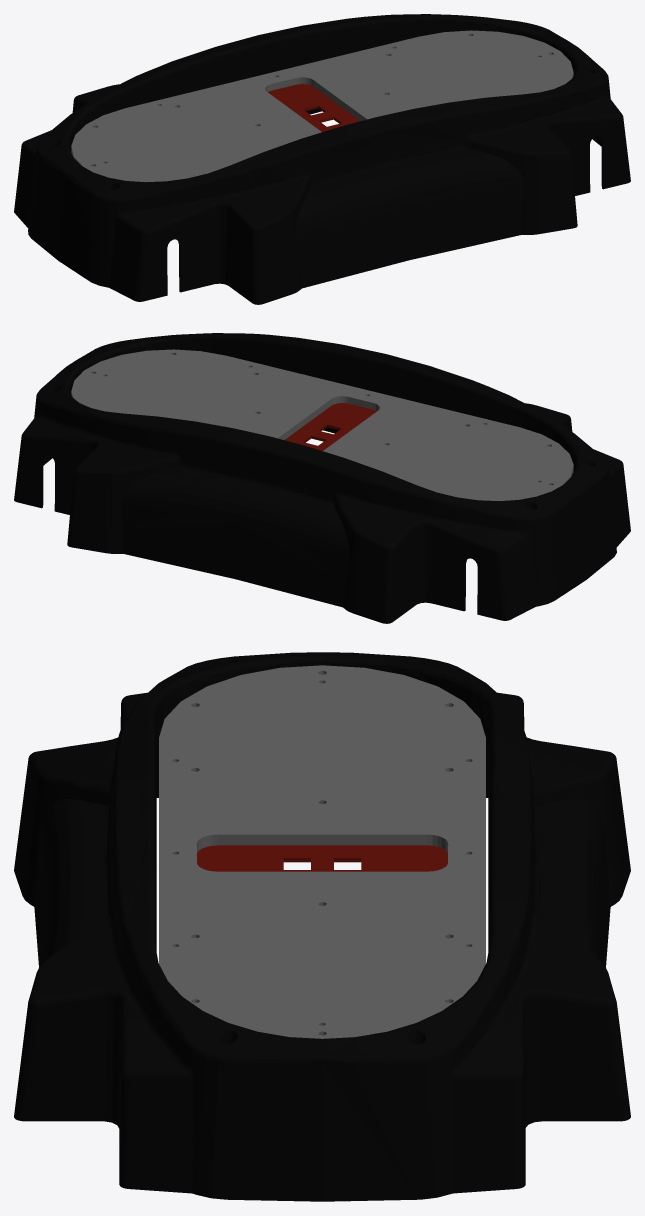
3 renders of one model, top to bottom at view 1: azimuth 30°, elevation 25°; view 2: azimuth 150°, elevation 25°; view 3: azimuth 270°, elevation 25°, orthographic. The views are drawn at different scales.
Parts seen in each view (by area): view 1: base_frame_Frame_004-Geometr_000-mesh.005; view 2: base_frame_Frame_004-Geometr_000-mesh.005; view 3: base_frame_Frame_004-Geometr_000-mesh.005.
Boxes of the visible parts, x1,y1,x2,y2 form: base_frame_Frame_004-Geometr_000-mesh.005: (14, 14, 630, 304); base_frame_Frame_004-Geometr_000-mesh.005: (14, 333, 630, 623); base_frame_Frame_004-Geometr_000-mesh.005: (14, 652, 630, 1201).
Bounding box in the file's own units: 0.5701 × 0.122 × 0.3571.
